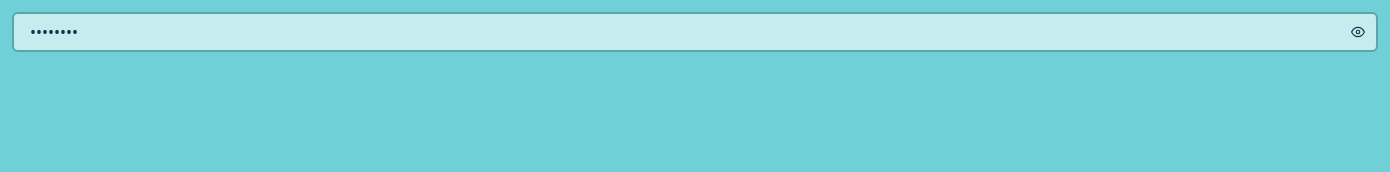
Formularios › PasswordInput alterna entre ocultar y mostrar
Step 1. Click the button named "Mostrar contraseña" → coordinates (1358, 32), box [1342,16,1374,48]
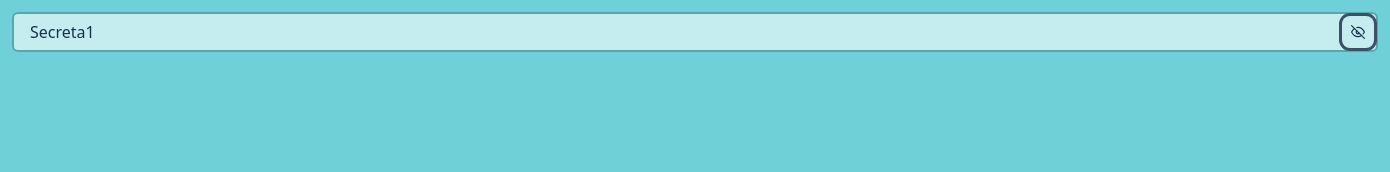
Now the field named "Contraseña" shows its text, box [12,12,1378,52]
